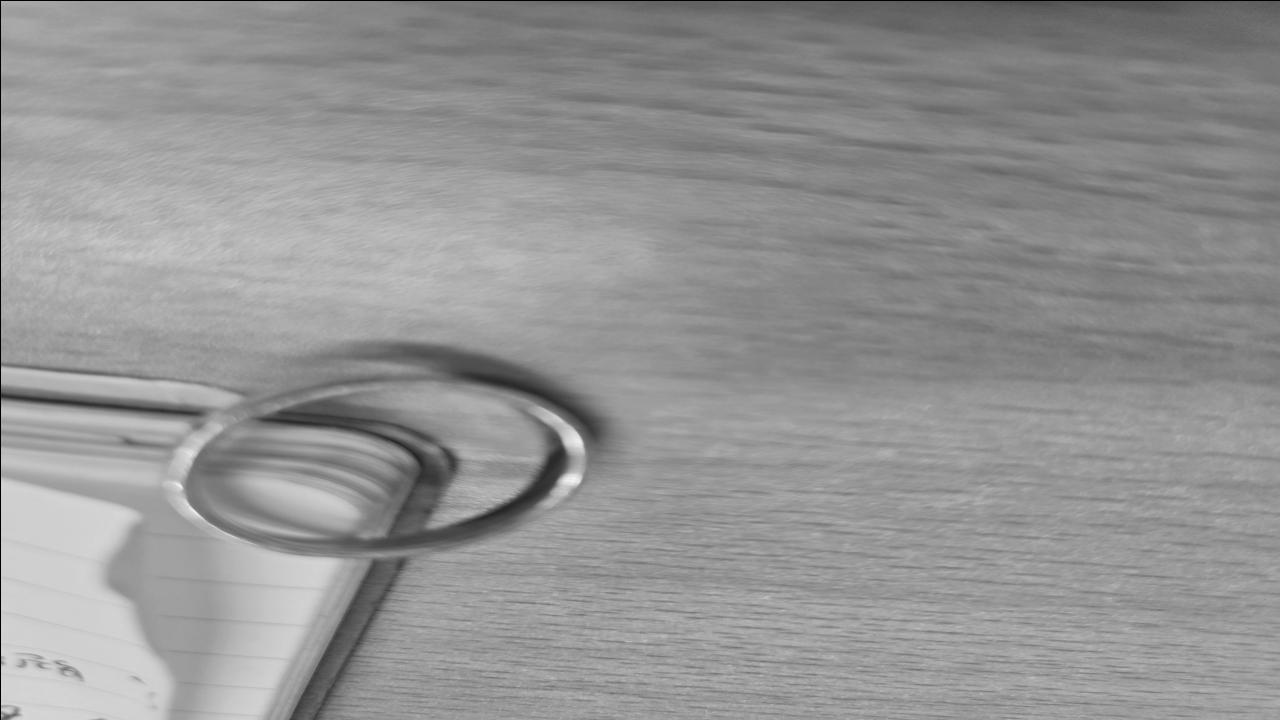ring: (156, 374, 594, 558)
